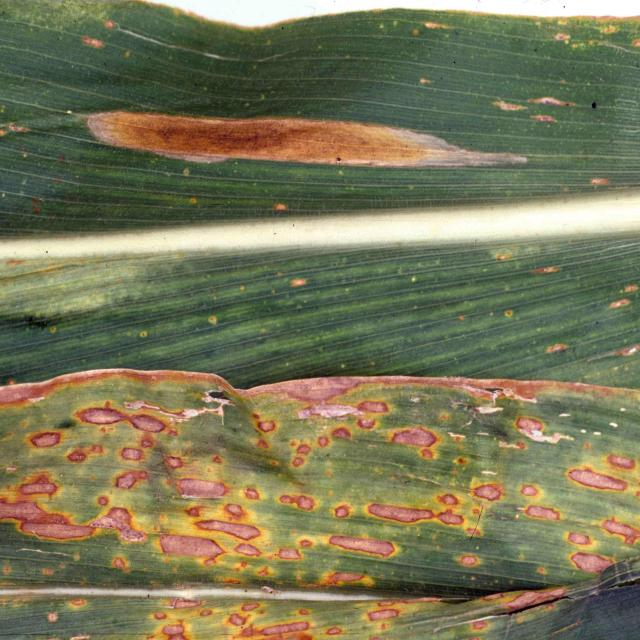blight: (6, 399, 316, 640), (85, 88, 492, 191)
